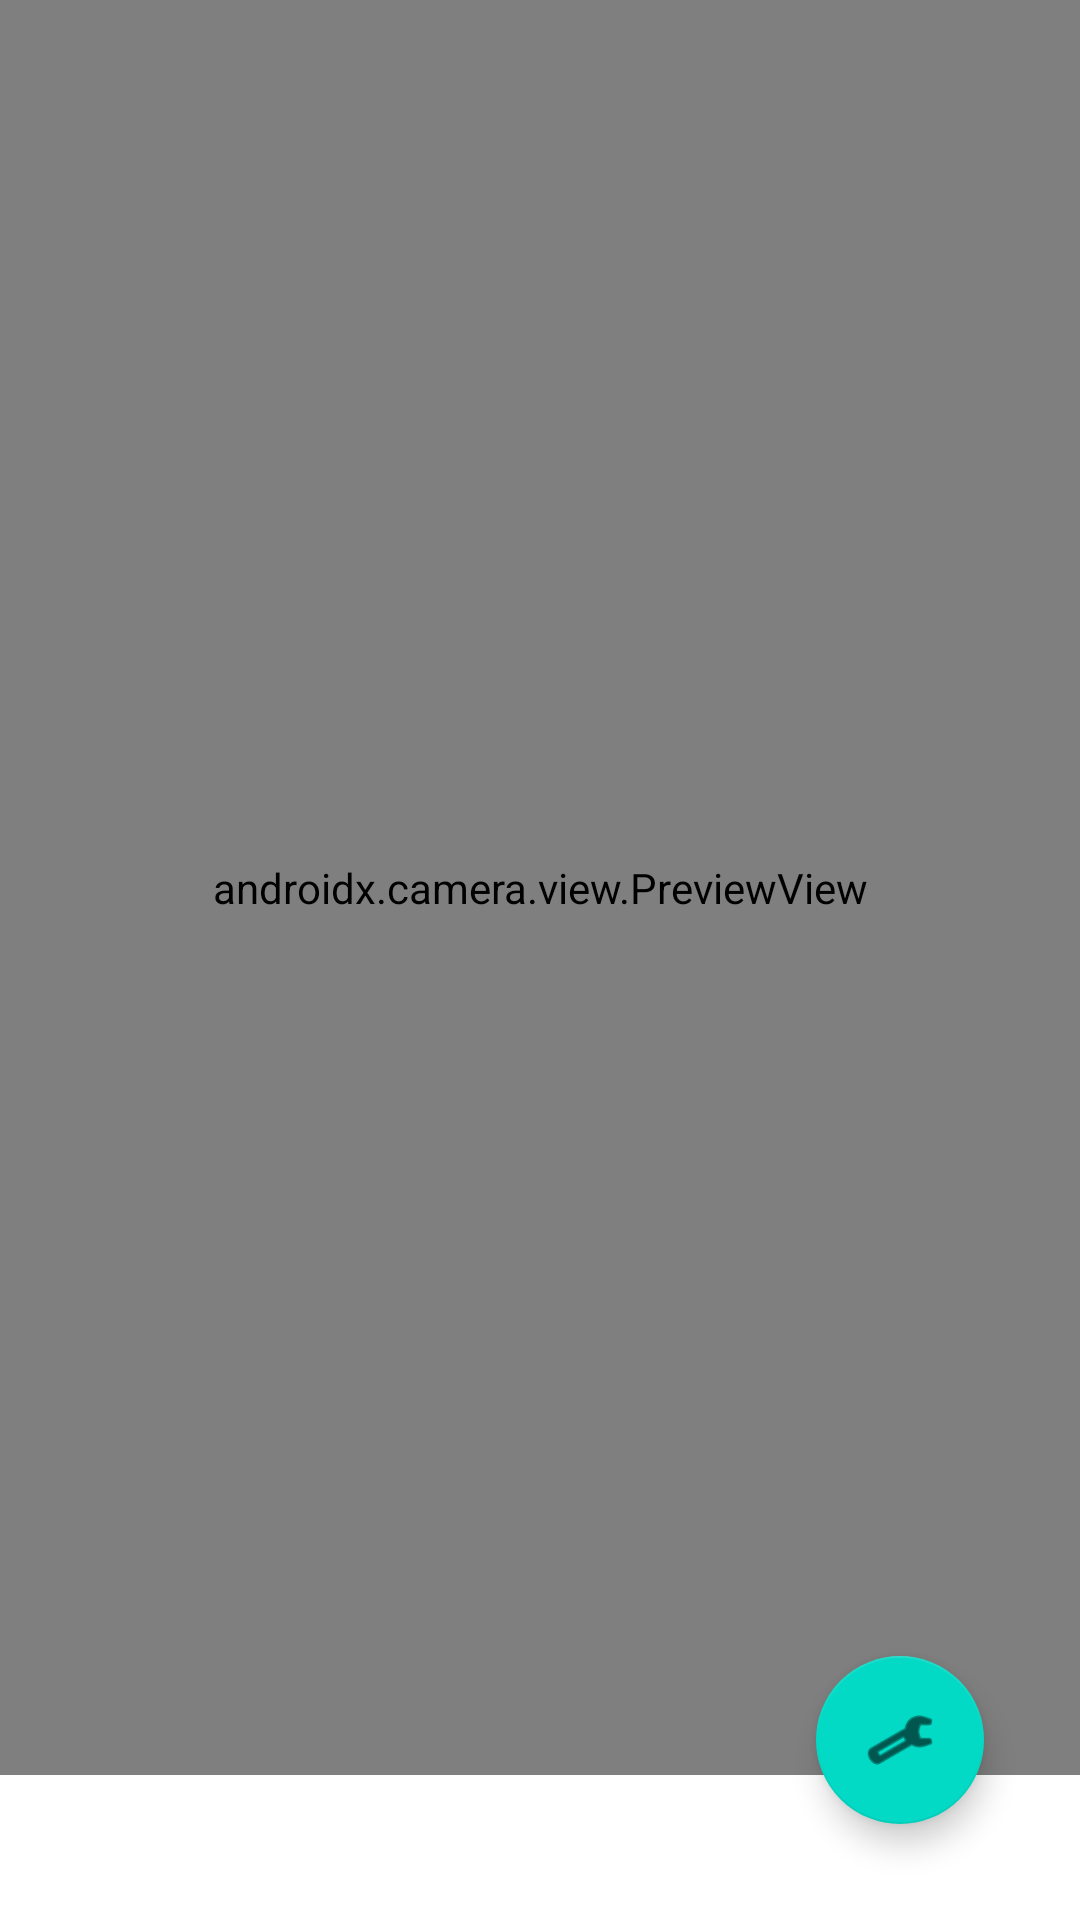

Screen size 1080 × 1920. Icon name, then its box in pixels as rect(x1, y1, x2, y2):
manage: rect(816, 1656, 984, 1824)
